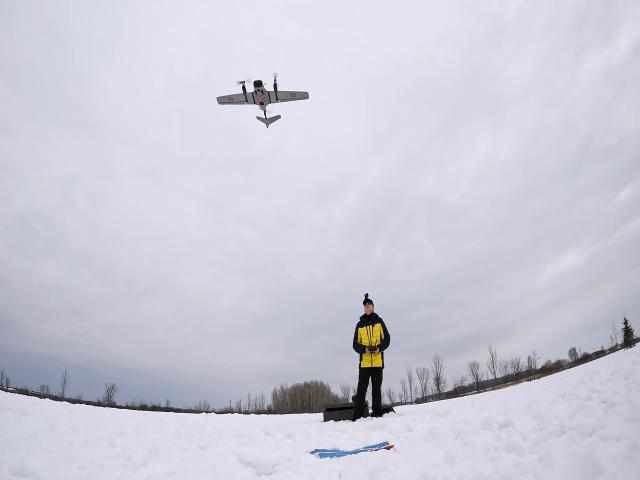plane: (216, 73, 310, 127)
